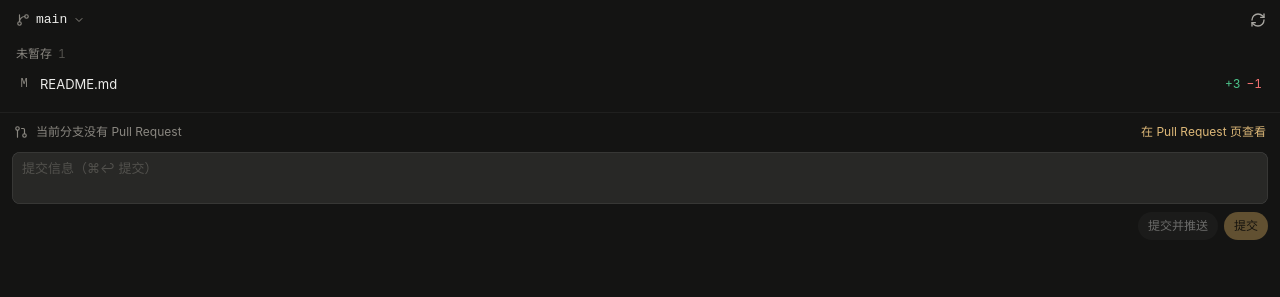
Test: GitReviewPane (FIX-05) › 1 · a commit the pre-commit hook rejects keeps its error on screen
This screenshot has width=1280, height=297.
Type "feat: add the thing" into the text box named "提交信息" at coordinates (640, 178), box x1=12 y1=152 x2=1268 y2=204
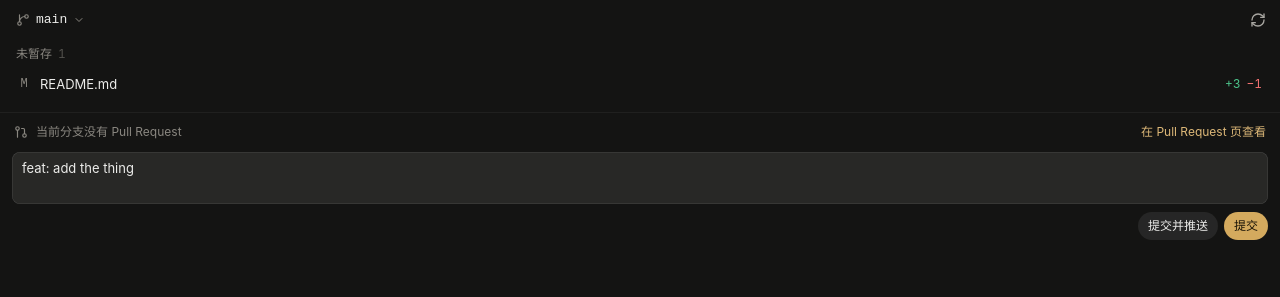
Submit the form with class "git-commit-form", box x1=12 y1=152 x2=1268 y2=240
Wait 15000 ms
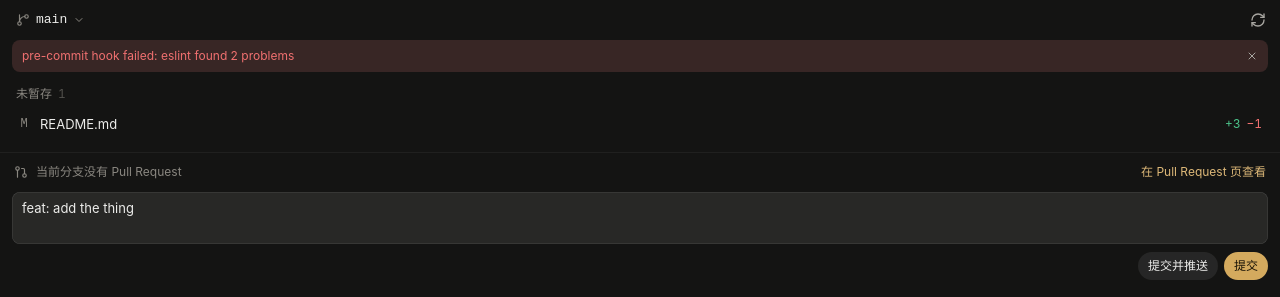
Check: the text "pre-commit hook failed" is shown, box x1=22 y1=48 x2=294 y2=63
Check: the message "pre-commit hook failed: eslint found 2 problems" is shown, box x1=12 y1=40 x2=1268 y2=72
Click the button named "关闭错误提示" at coordinates (1252, 56), box x1=1242 y1=46 x2=1262 y2=66
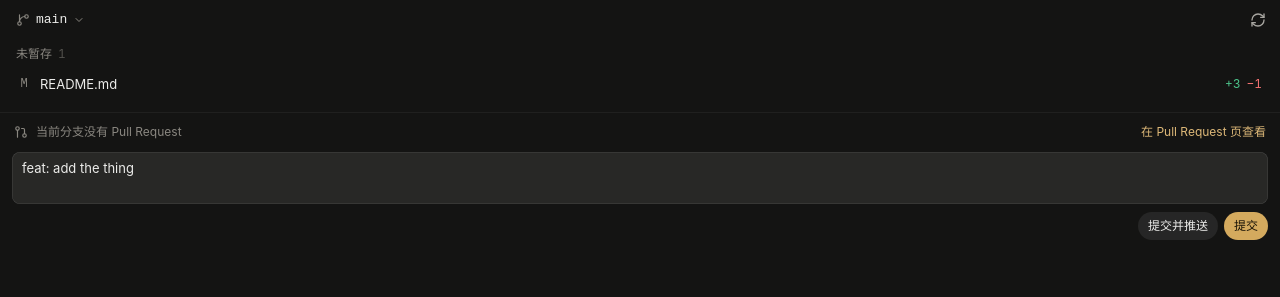
Check: the text "pre-commit hook failed" is gone
